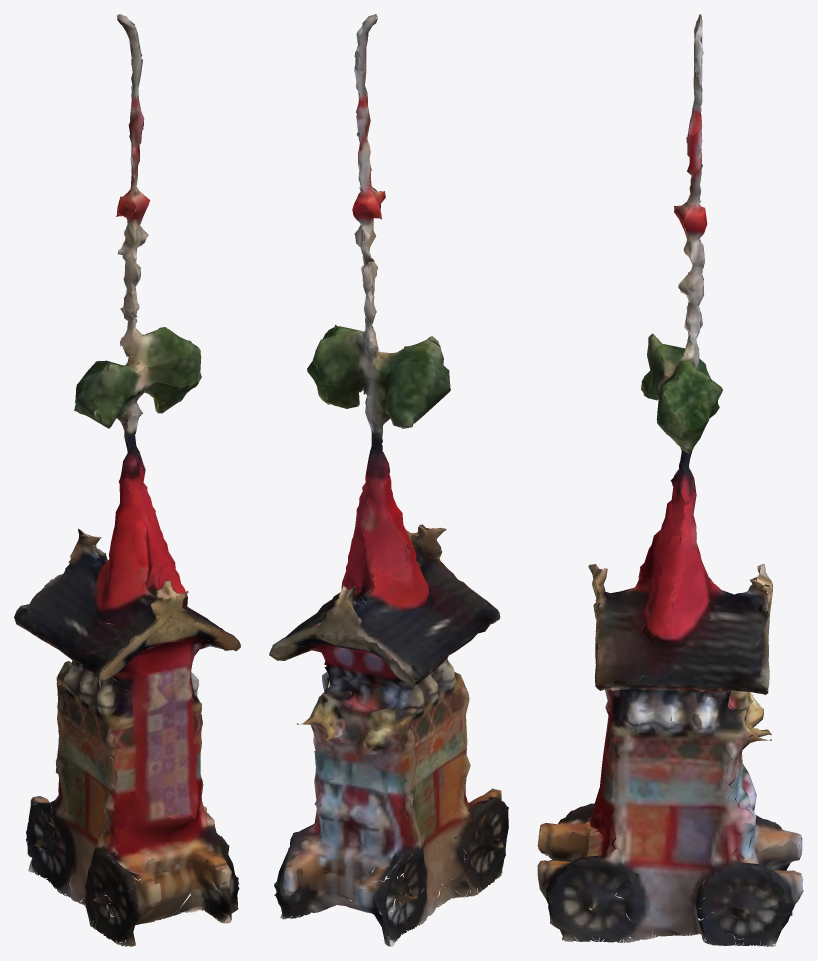
File: 長刀鉾.glb
3 renders of one model, left to right at view 1: azimuth 30°, elevation 25°; view 2: azimuth 150°, elevation 25°; view 3: azimuth 270°, elevation 25°, orthographic. The views are drawn at different scales.
Parts seen in each view (by area): view 1: mesh; view 2: mesh; view 3: mesh.
Boxes of the visible parts, box(x1,y1,x2,y2) form: mesh: box(14, 14, 240, 946); mesh: box(269, 14, 508, 946); mesh: box(537, 14, 803, 946).
Bounding box in the file's own units: 4.21 × 23.75 × 6.34.
1 material, 1 textured.
